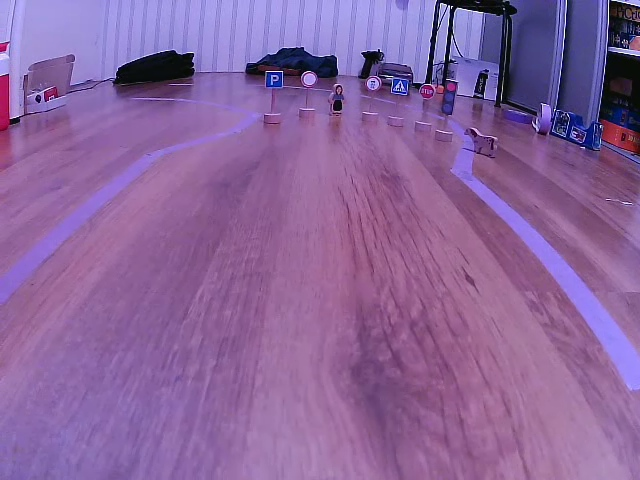fietspad: (367, 75, 380, 93)
mens: (329, 83, 347, 116)
paard: (464, 125, 500, 158)
parkeerbord: (265, 71, 283, 89)
roodlicht: (443, 78, 457, 117)
stopbord: (419, 82, 434, 99)
wegdicht: (302, 71, 317, 88)
zebrapad: (391, 77, 409, 97)
